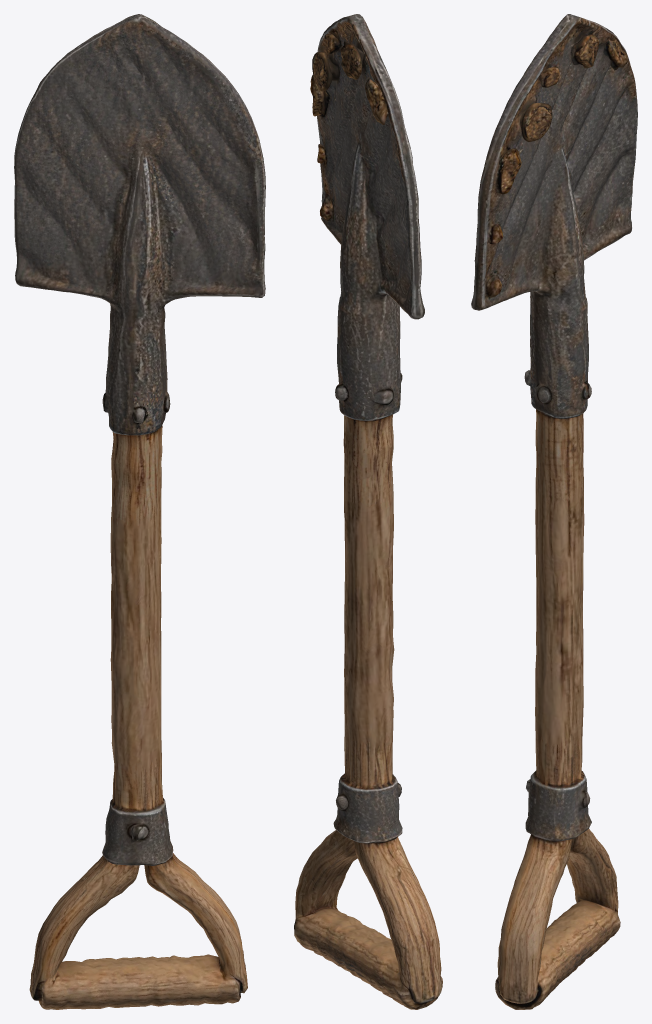
Rendered from melee_shovel.glb.
3 views of the same model, side by side, from view 1: azimuth 30°, elevation 25°; view 2: azimuth 150°, elevation 25°; view 3: azimuth 270°, elevation 25° (orthographic). The views are drawn at different scales.
Visible parts, largest first — view 1: melee_shovel; view 2: melee_shovel; view 3: melee_shovel.
Boxes of the visible parts, x1,y1,x2,y2 form: melee_shovel: [14, 14, 265, 1009]; melee_shovel: [294, 14, 442, 1009]; melee_shovel: [471, 14, 637, 1009].
Bounding box in the file's own units: 0.1821 × 0.95 × 0.1493.
Materials: 1 (1 with a texture image).
